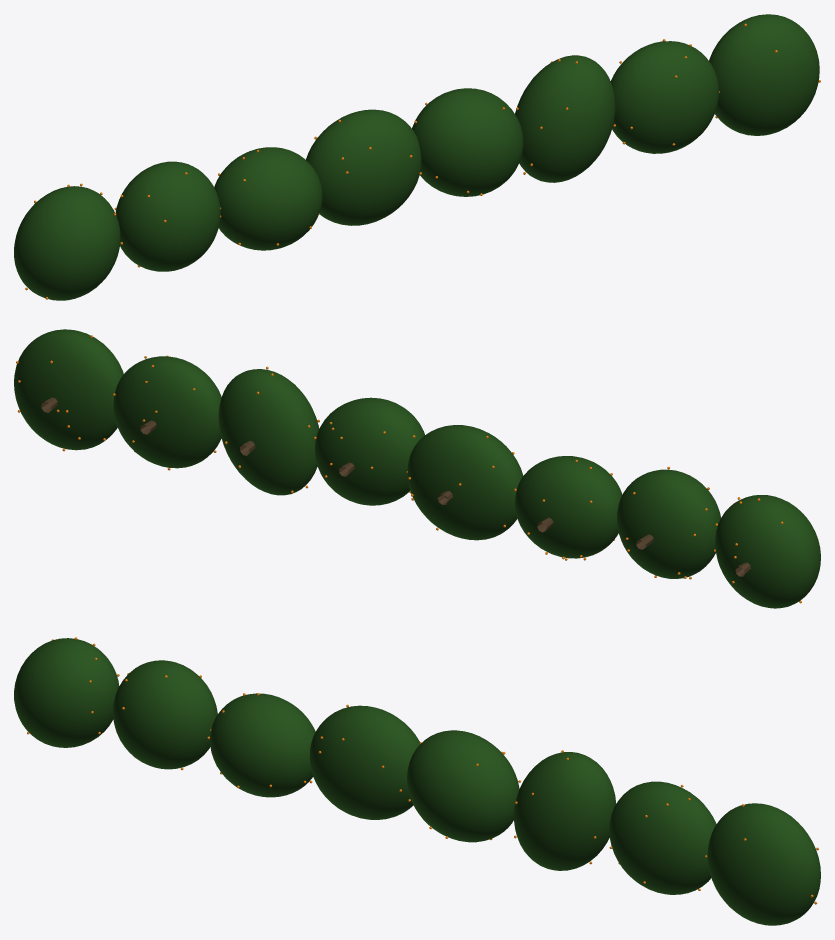
The model's file is citrus_plain8_b_fruit.obj.
3 renders of one model, top to bottom at view 1: azimuth 30°, elevation 25°; view 2: azimuth 150°, elevation 25°; view 3: azimuth 330°, elevation 25°, orthographic.
Visible parts, largest first — view 1: canopy; view 2: canopy, trunk, fruit; view 3: canopy.
Boxes of the visible parts, x1,y1,x2,y2 form: canopy: (14, 14, 819, 300); canopy: (14, 329, 820, 608); trunk: (41, 397, 750, 576); fruit: (16, 335, 801, 603); canopy: (14, 638, 820, 925).
Bounding box in the file's own units: 24.06 × 3.63 × 2.74.
